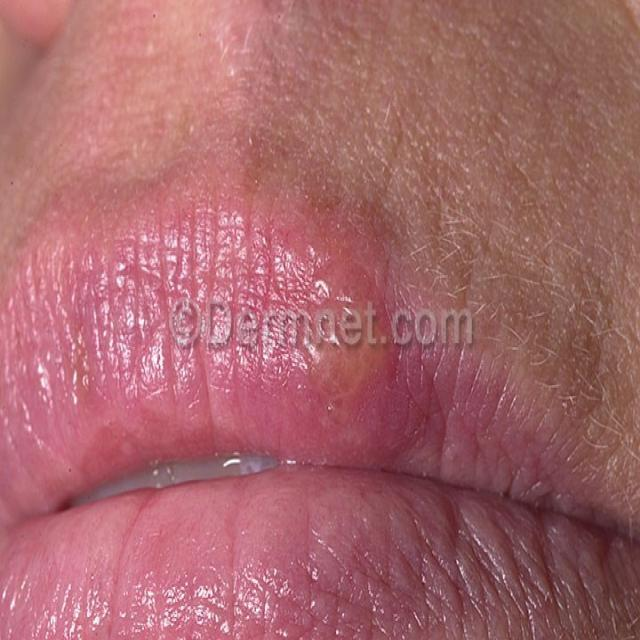Shingles: (296, 284, 392, 410)
